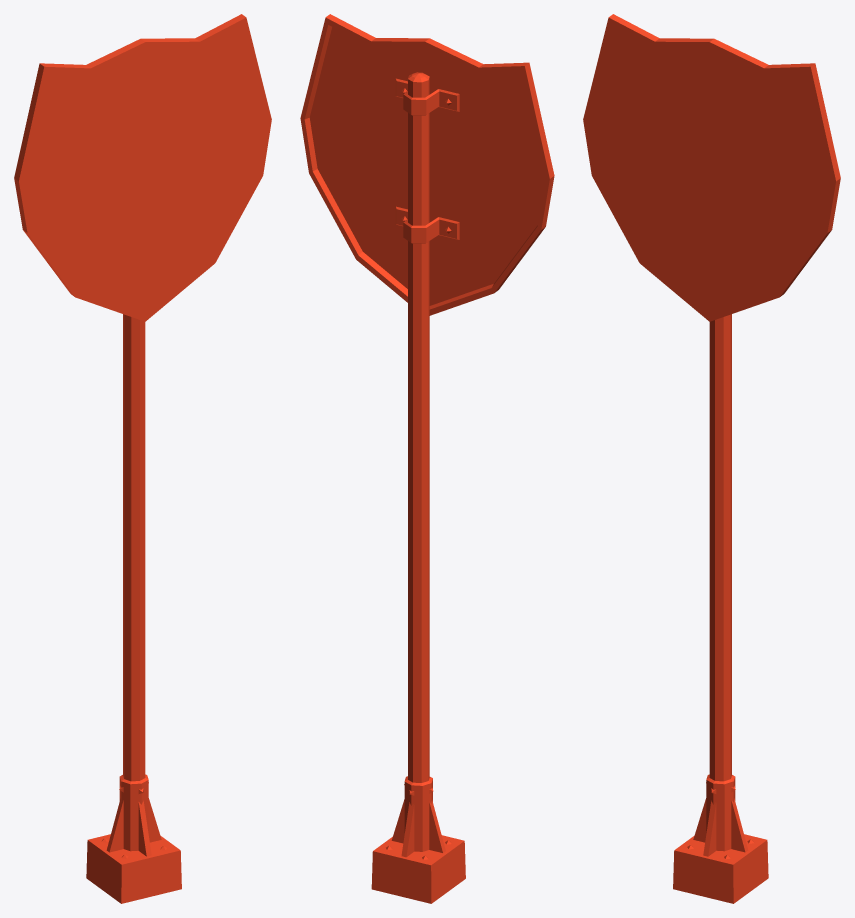
The model's file is SM_Sign_Route_Tall_B_City.fbx.
The picture shows the model from 3 angles, left to right: view 1: azimuth 30°, elevation 25°; view 2: azimuth 150°, elevation 25°; view 3: azimuth 330°, elevation 25°; orthographic projection.
Visible parts, largest first — view 1: SM_Sign_Route_Tall_B_City; view 2: SM_Sign_Route_Tall_B_City; view 3: SM_Sign_Route_Tall_B_City.
Boxes of the visible parts, left/top/right/bottom form: SM_Sign_Route_Tall_B_City: left=14, top=14, right=271, bottom=903; SM_Sign_Route_Tall_B_City: left=300, top=14, right=554, bottom=903; SM_Sign_Route_Tall_B_City: left=583, top=14, right=840, bottom=903.
Size of the model in its own units: 0.7676 by 2.46 by 0.1839.
